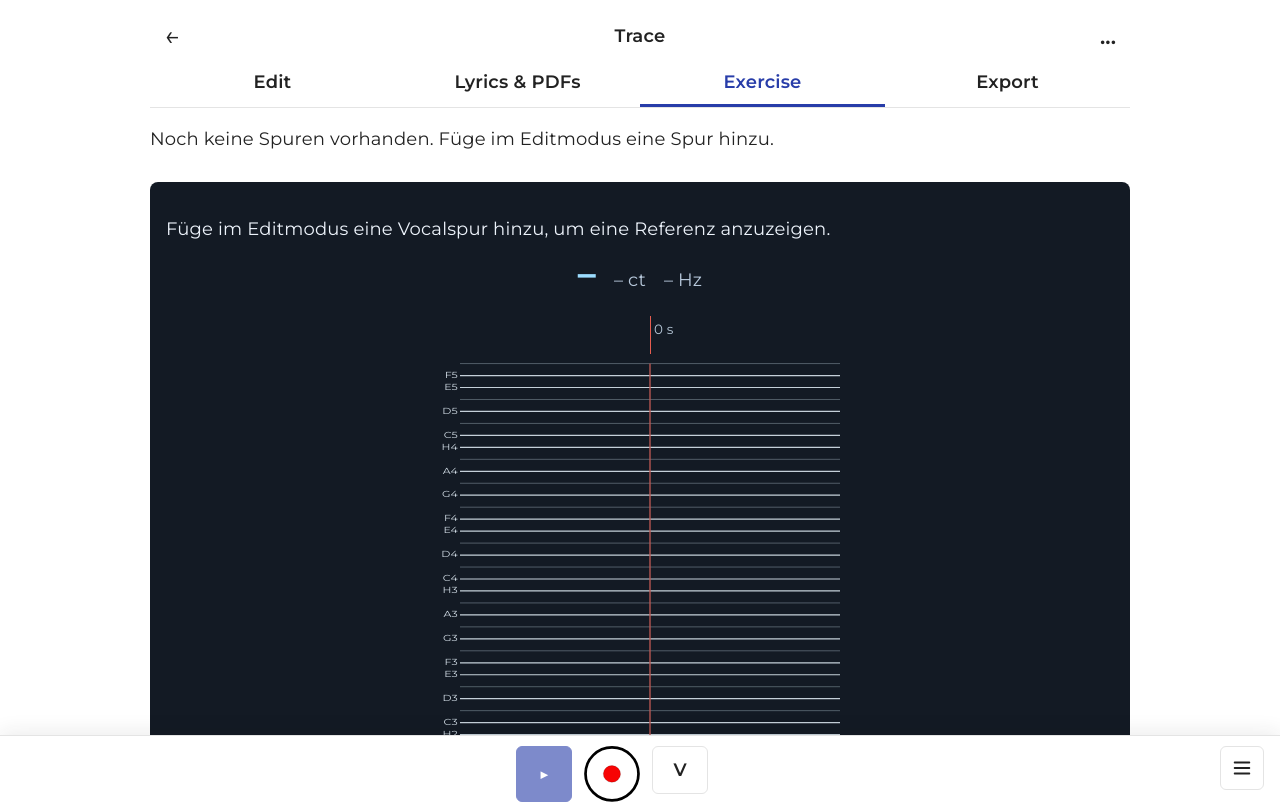
Test: Audiobook › zeigt den Debug-Trace im Projektmenü nur im Übungsmodus und deaktiviert ihn ohne Vocalspur
Click the button named "Projektoptionen" at {"x": 1108, "y": 36}, box [1086,14,1130,58]
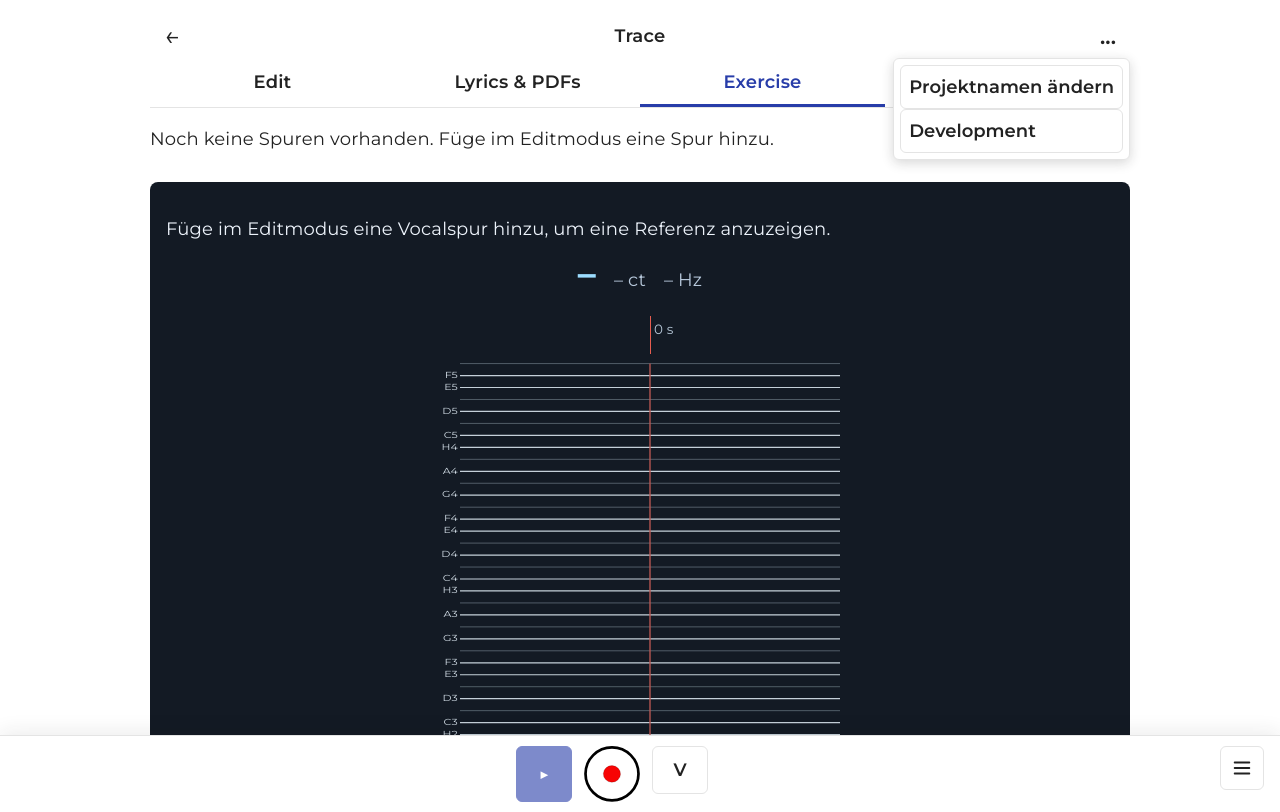
Expected: the button "Debug-Trace herunterladen" is not shown
Click the button "Development" at {"x": 1012, "y": 131}, box [900,109,1123,153]
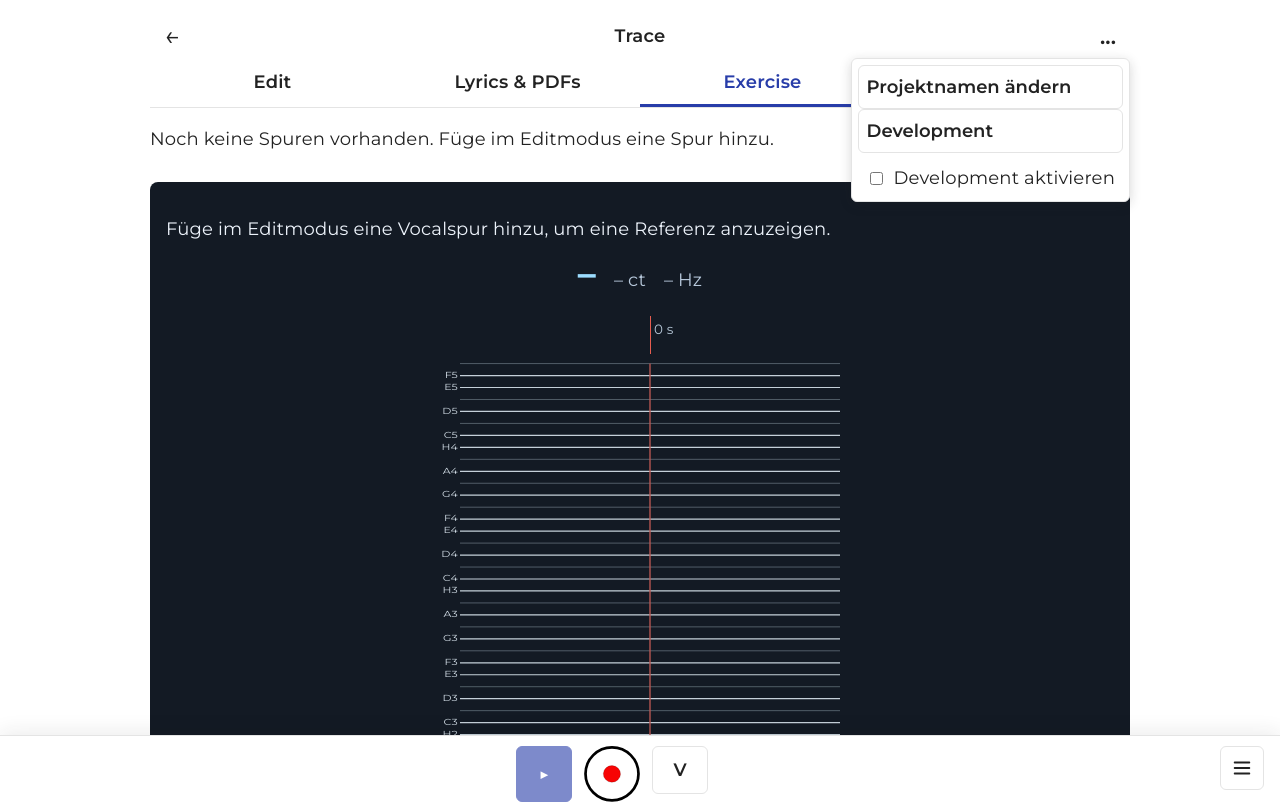
Expected: the button "Wiedergabe-Debuglog herunterladen" is not shown
Click the checkbox labelled "Development aktivieren" at {"x": 876, "y": 178}, box [870,172,882,185]
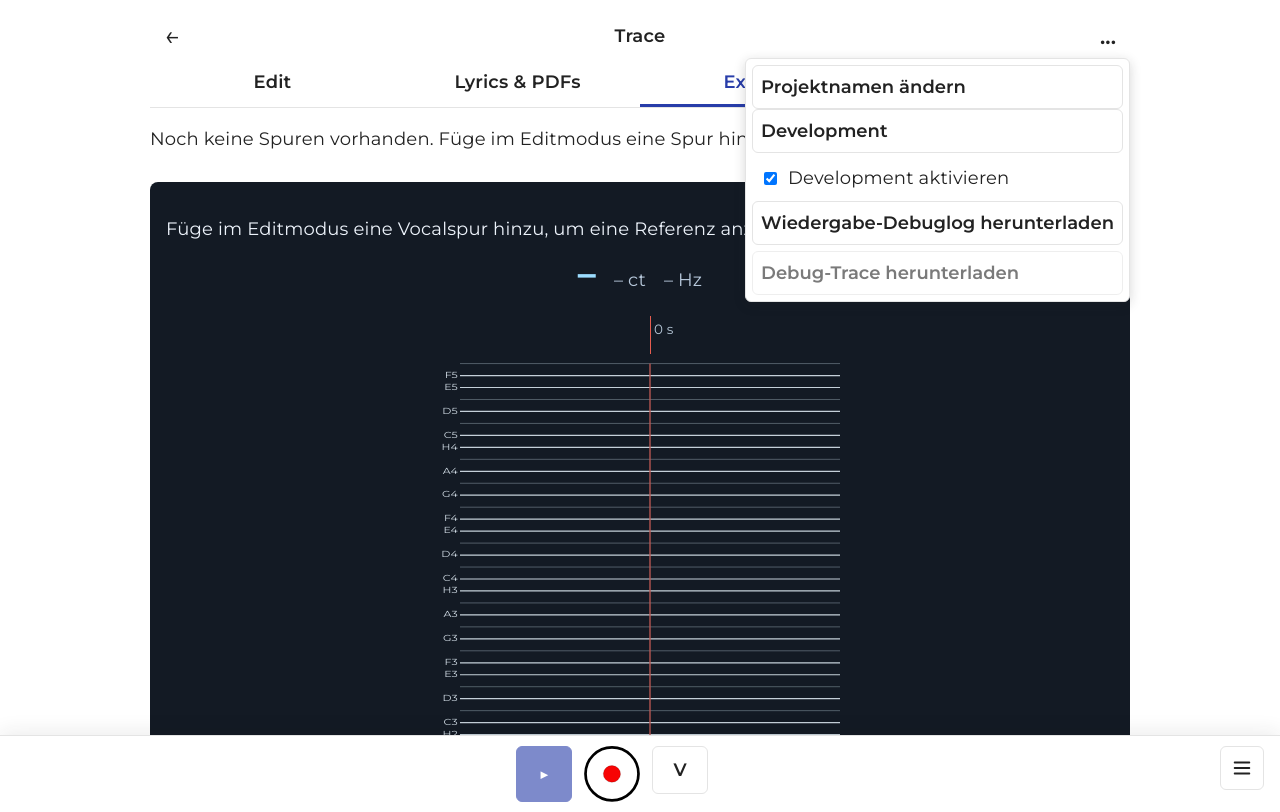
Result: the button "Debug-Trace herunterladen" is disabled at [752,251,1123,296]
Result: the button "Wiedergabe-Debuglog herunterladen" is enabled at [752,201,1123,245]
Click the link "Edit" at {"x": 272, "y": 82}, box [254,71,291,93]
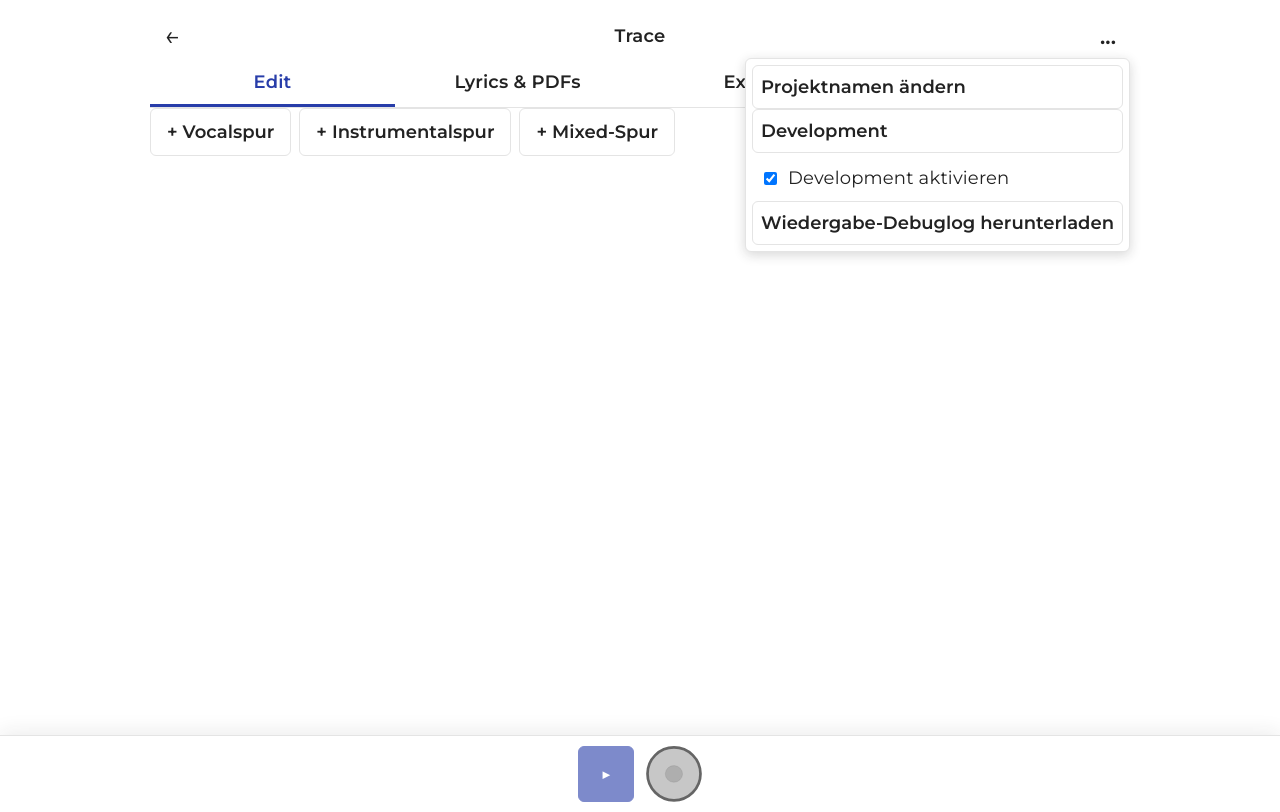
Result: the checkbox labelled "Development aktivieren" is checked
Result: the button "Wiedergabe-Debuglog herunterladen" is enabled at [752,201,1123,245]
Result: the button "Debug-Trace herunterladen" is gone
Click the checkbox labelled "Development aktivieren" at {"x": 770, "y": 178}, box [764,172,777,185]
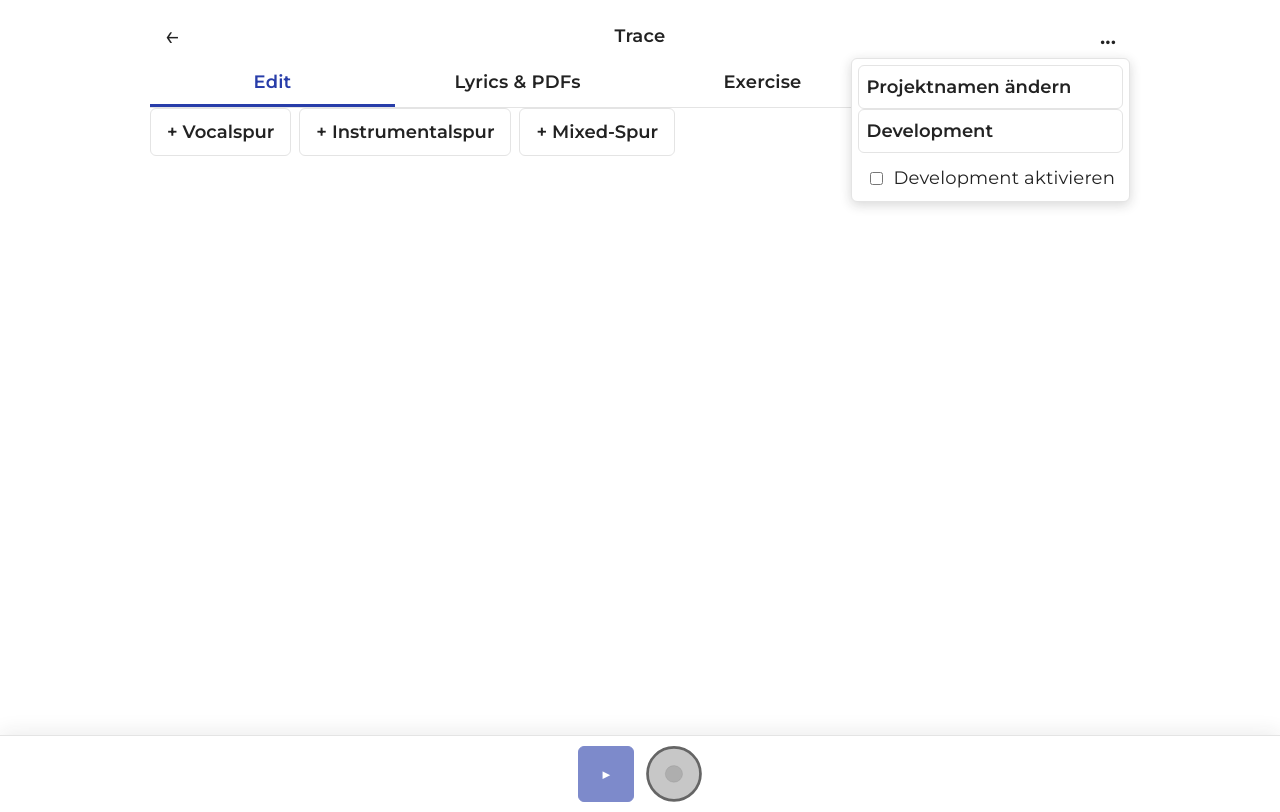
Result: the button "Wiedergabe-Debuglog herunterladen" is gone
